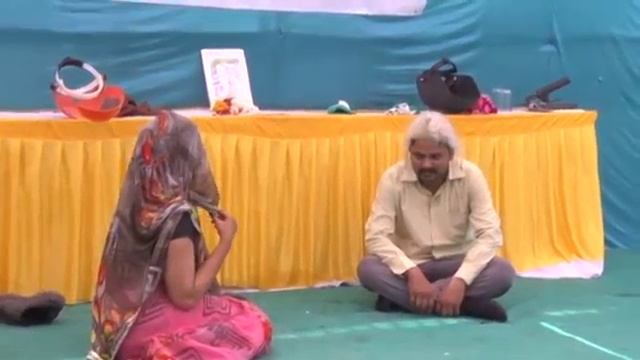helmet_off: (132, 112, 215, 202), (405, 113, 459, 188)
person: (84, 108, 273, 360), (353, 111, 518, 323)
